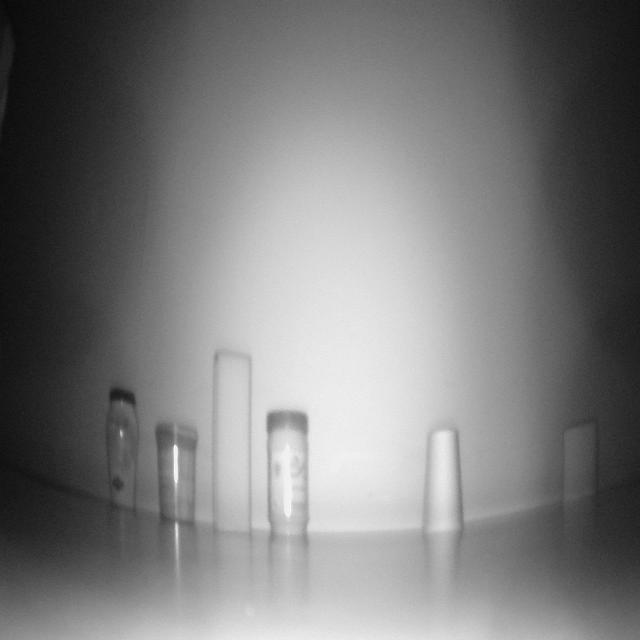targets: (213, 348, 250, 532), (268, 403, 310, 543), (422, 424, 464, 539), (157, 415, 195, 523), (107, 386, 140, 508), (562, 420, 601, 502)
